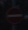No entry: (5, 6, 23, 25)
